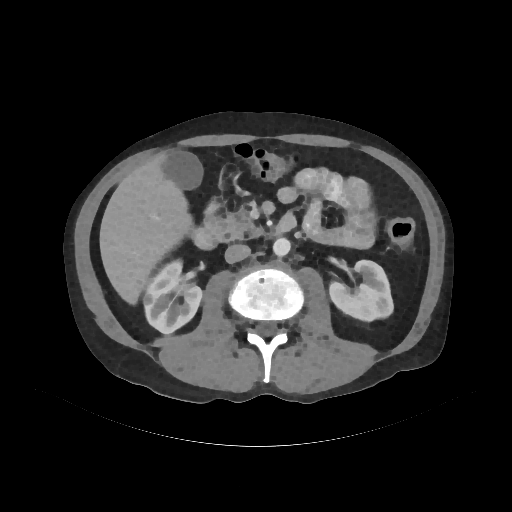Lesion: (139, 293, 153, 304)
